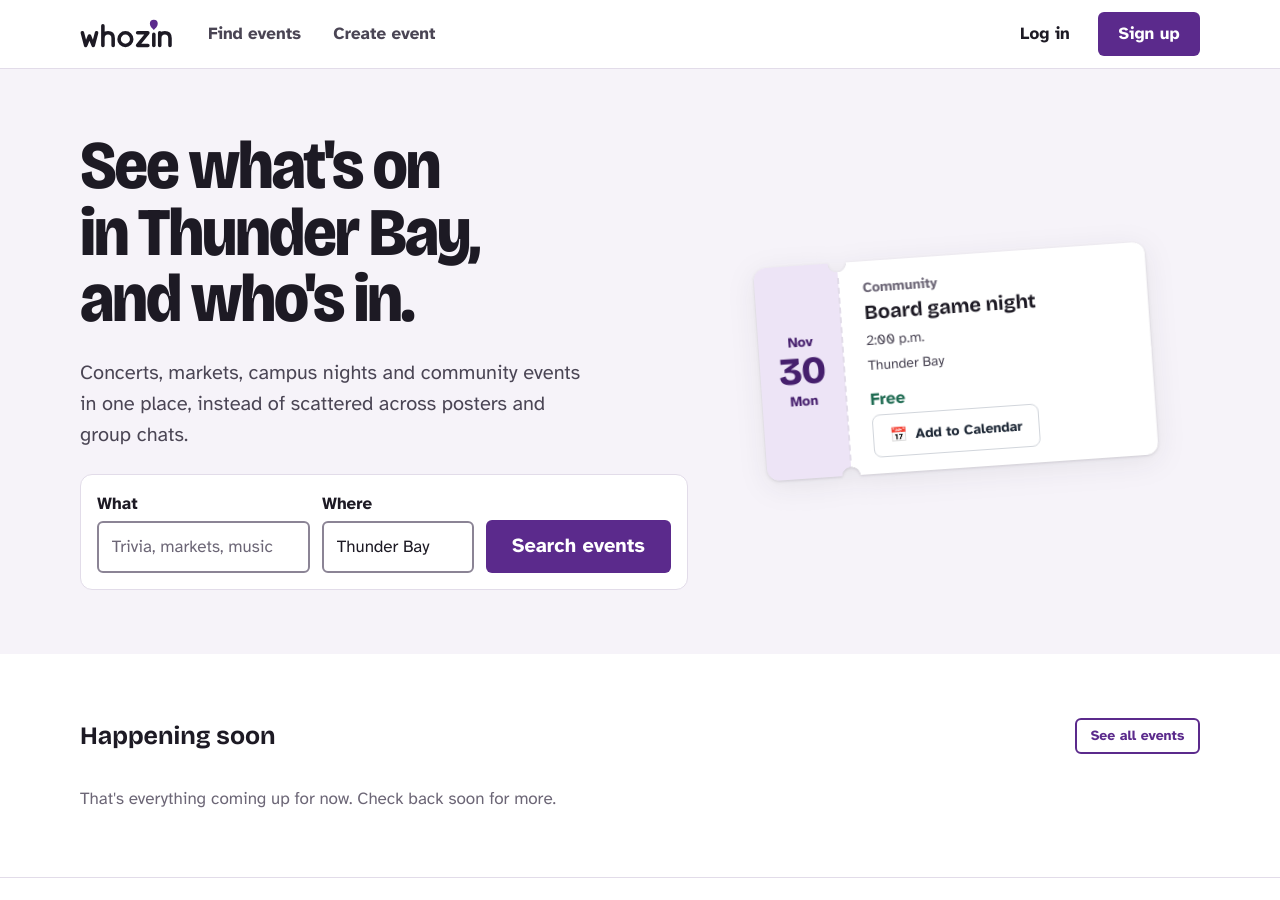
Scenario: navbar › moves between pages and marks the current link
The width and height of the screenshot is (1280, 900).
What coordinates should you click on to do the following:
click the link "Find events"
I would click on:
 (255, 33)
Its box is [208,23,301,44].
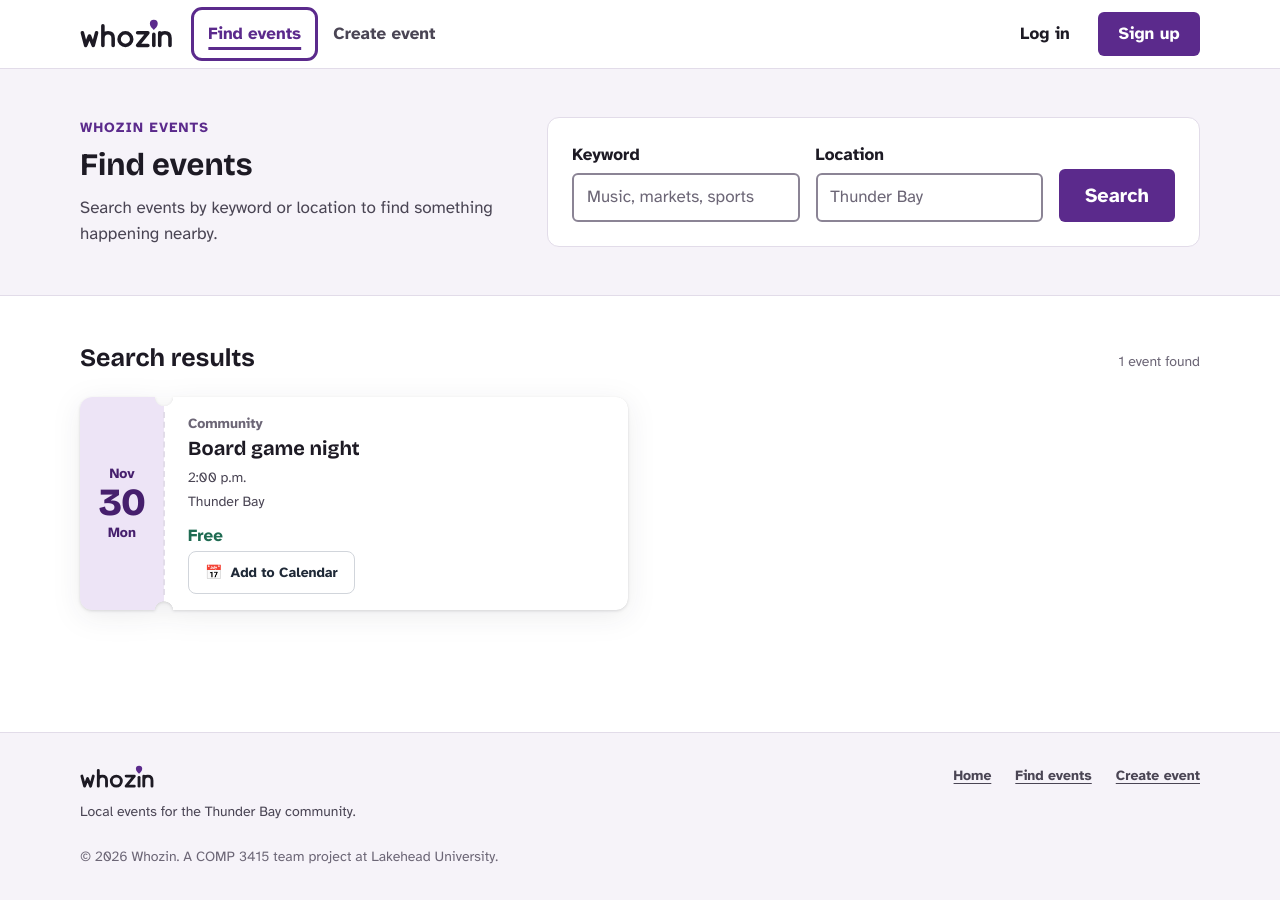
Check: the link "Find events" in the row of "Log in" is marked as current, box [208,23,301,44]
What coordinates should you click on to do the following:
click the link "Sign up"
I would click on:
 (1149, 34)
Its box is [1098,12,1200,56].
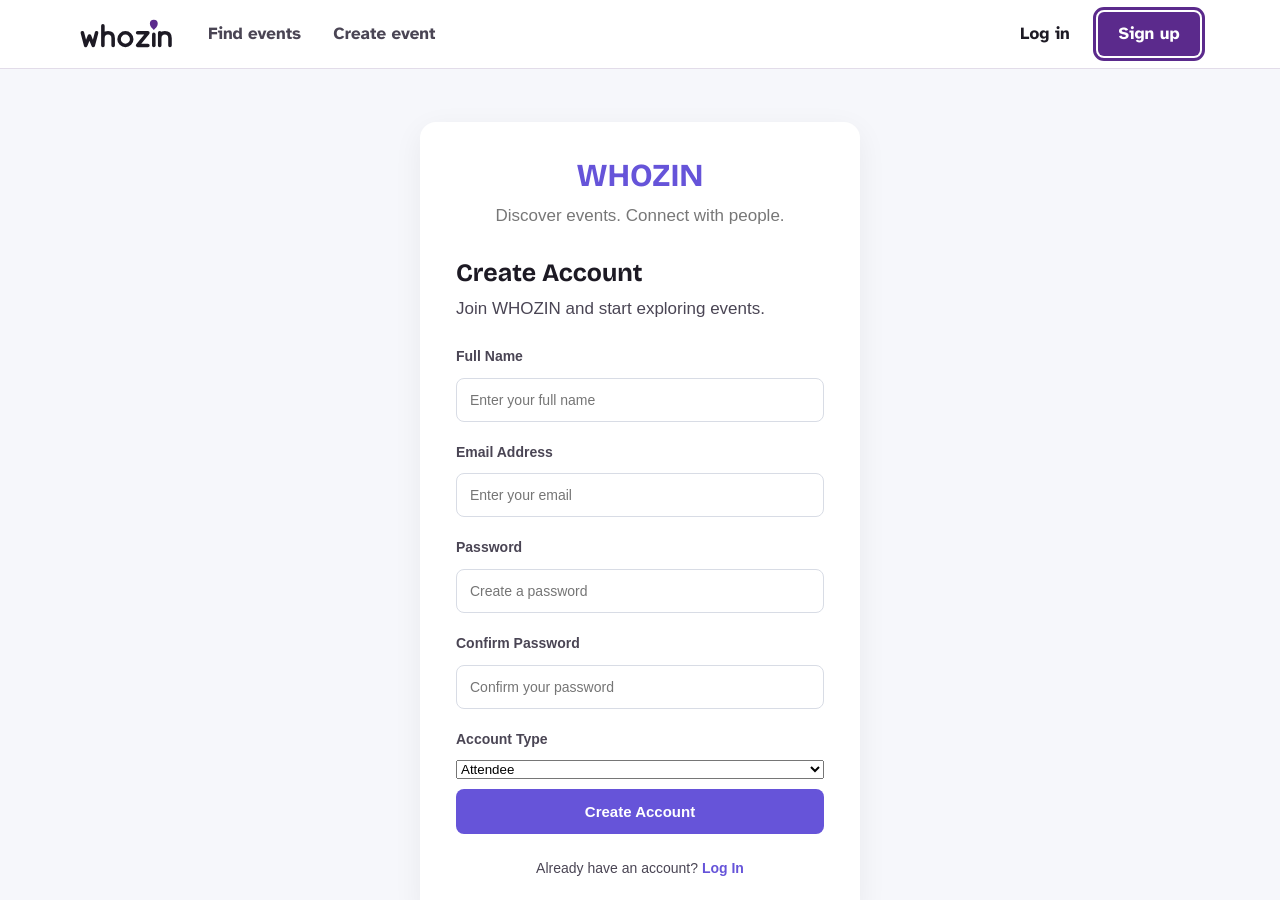
Check: the heading "Create Account" is shown, box [456,258,642,288]
What coordinates should you click on to do the following:
click the link named "Whozin home"
I would click on:
 (126, 34)
Its box is [80,11,172,57].
(page scrolled)
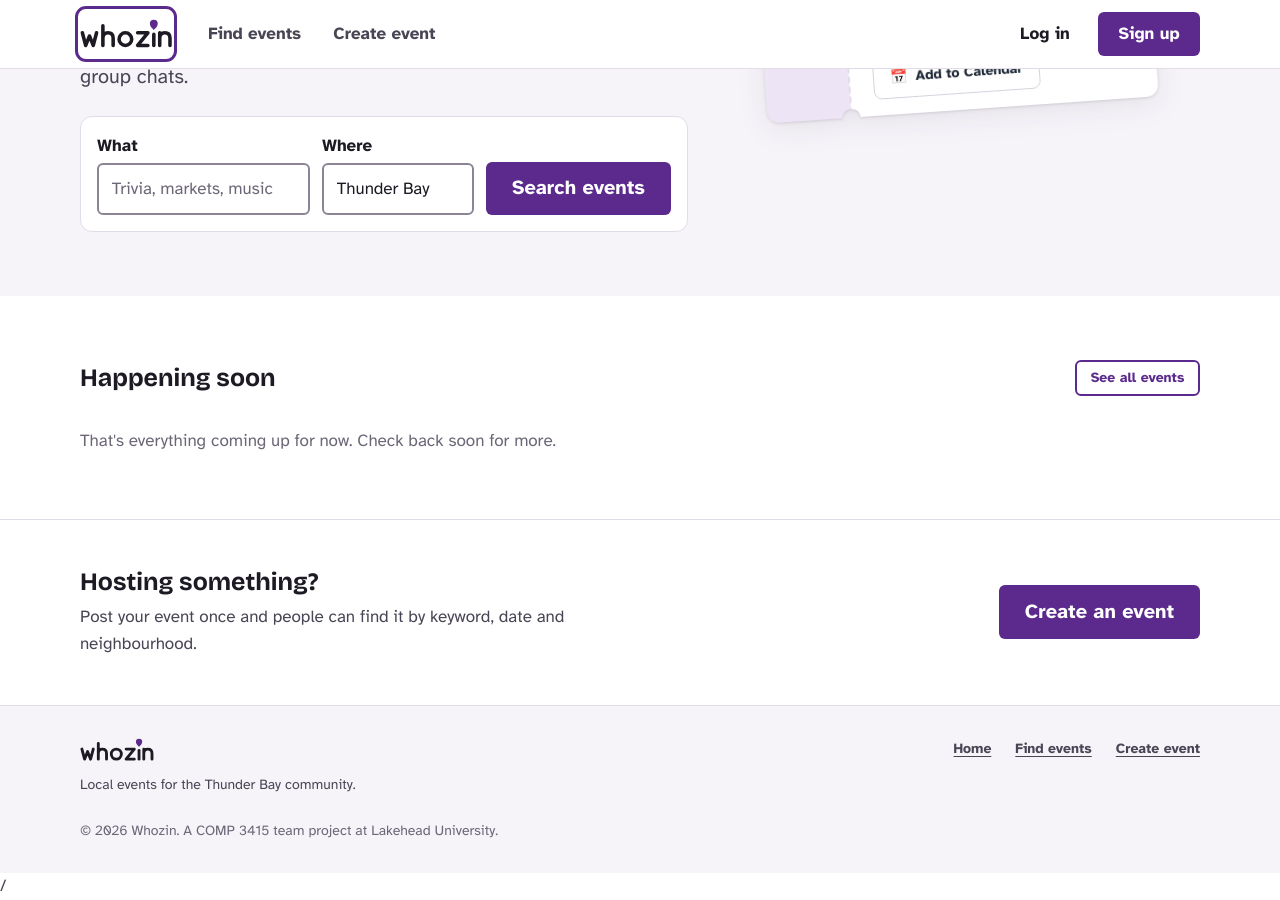
Check: the text with test id "location" reads "/", box [0,875,6,896]
